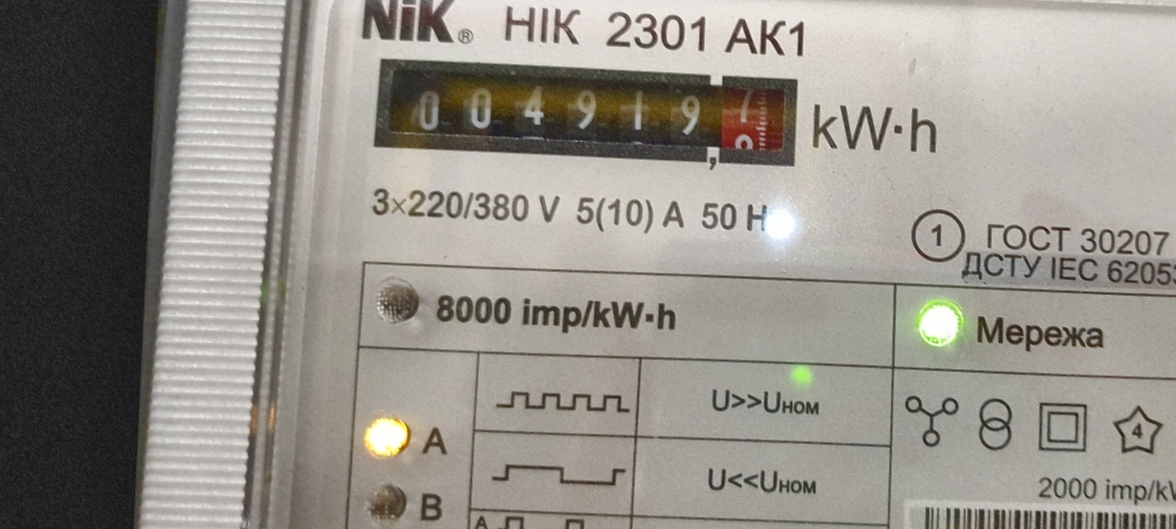0: (467, 85, 495, 131), (415, 87, 441, 132)
1: (629, 87, 646, 133)
4: (520, 82, 546, 126)
7: (731, 85, 756, 125)
9: (677, 91, 702, 139), (573, 88, 598, 132)
screen: (361, 44, 816, 185)
